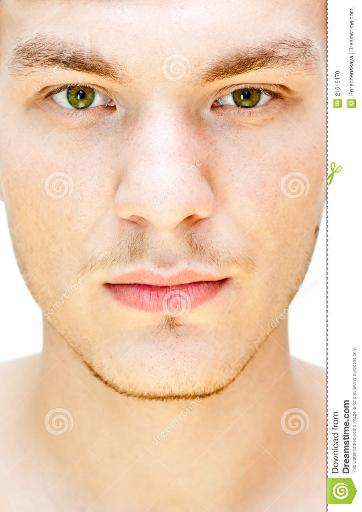left_eye: (207, 81, 294, 119)
left_lip_corner: (213, 269, 242, 293)
right_eye: (32, 80, 119, 120)
right_lip_corner: (93, 272, 125, 299)
